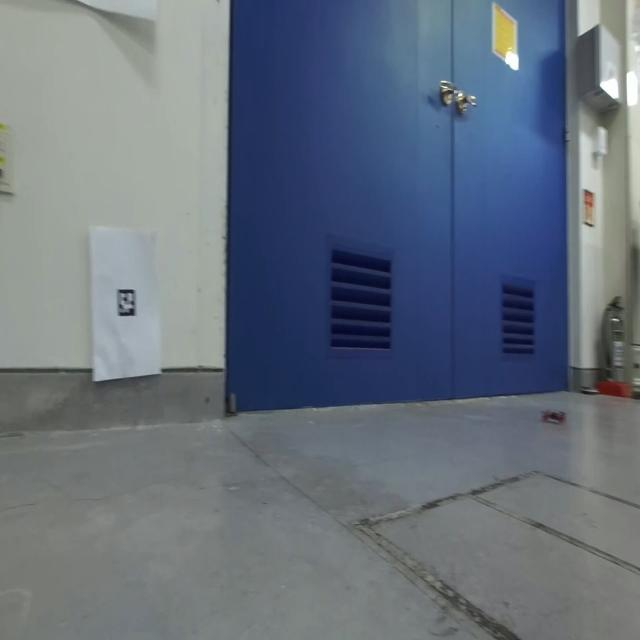crazyflie: (539, 404, 568, 429)
